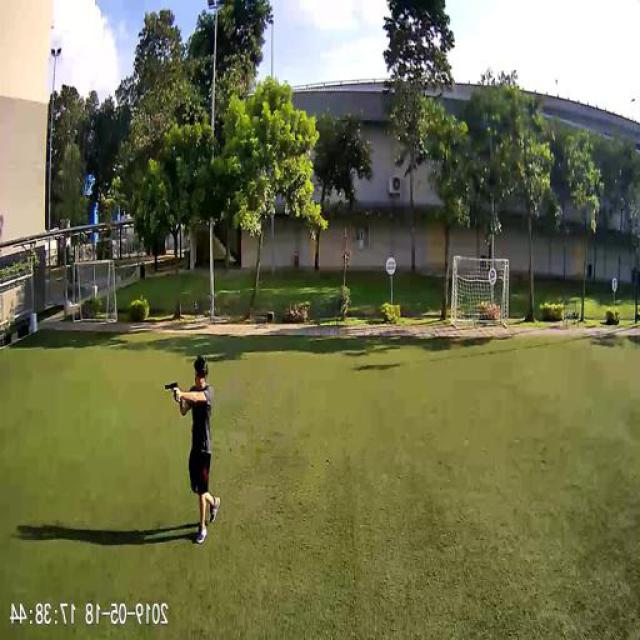Gun: (166, 378, 182, 392)
